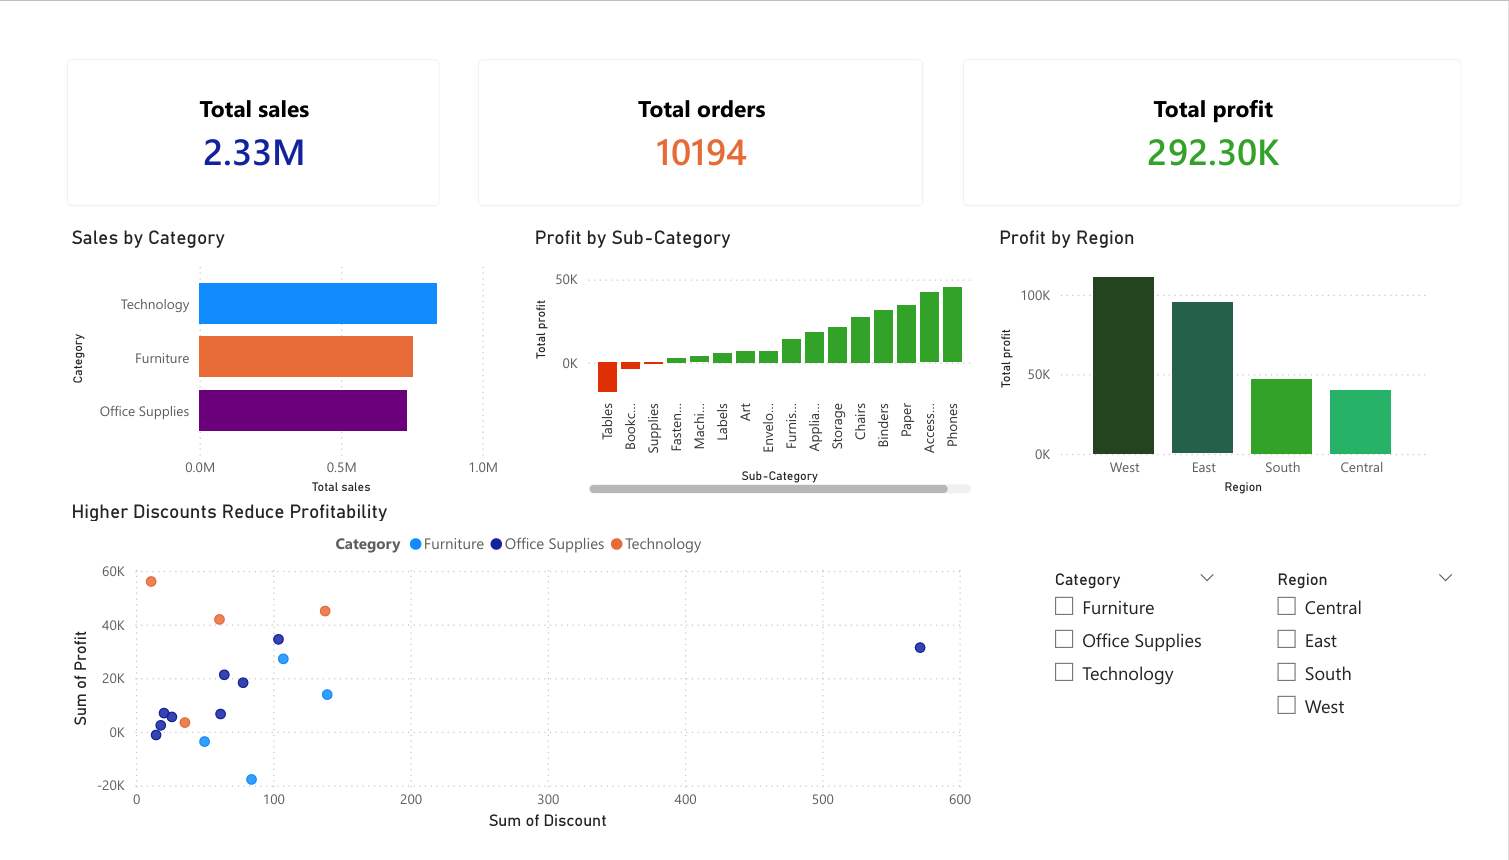

The page's visual inventory and layout, read from the dashboard file:
{"tool":"powerbi","page":{"name":"Page 1","canvas":[1280,720],"ordinal":0},"visuals":[{"type":"cardVisual","fields":{"Data":["Orders.Total sales"]},"box":[17.8,20.6,362.3,163.3],"z":0},{"type":"cardVisual","fields":{"Data":["Orders.Total orders"]},"box":[380.1,20.6,426.8,163.3],"z":1000},{"type":"cardVisual","fields":{"Data":["Orders.Total profit"]},"box":[806.9,20.6,473.4,163.3],"z":2000},{"type":"clusteredBarChart","title":"Sales by Category","fields":{"Category":["Orders.Category"],"Y":["Orders.Total sales"]},"box":[34.3,183.9,385.6,241.5],"z":3000},{"type":"clusteredColumnChart","title":"Profit by Sub-Category","fields":{"Category":["Orders.Sub-Category"],"Y":["Orders.Total profit"]},"box":[441.9,183.9,393.8,241.5],"z":4000},{"type":"clusteredColumnChart","title":"Profit by Region","fields":{"Category":["Orders.Region"],"Y":["Orders.Total profit"]},"box":[850.8,183.9,385.6,241.5],"z":5000},{"type":"scatterChart","title":"Higher Discounts Reduce Profitability","fields":{"Y":["Sum(Orders.Profit)"],"X":["Sum(Orders.Discount)"],"Category":["Orders.Sub-Category"],"Series":["Orders.Category"]},"box":[34.3,425.4,801.4,295],"z":6000},{"type":"slicer","fields":{"Values":["Orders.Category"]},"box":[891.9,481.6,166,159.2],"z":8001},{"type":"slicer","fields":{"Values":["Orders.Region"]},"box":[1088.2,481.6,179.8,149.6],"z":8002}]}

Visuals, with their boxes in screenshot pixels (x1, y1, x2, y2), scaled from the page's 1280x720 canvas onto the 1509x860 screenshot:
cardVisual - Orders.Total sales: pyautogui.locateOnScreen(21, 25, 448, 220)
cardVisual - Orders.Total orders: pyautogui.locateOnScreen(448, 25, 951, 220)
cardVisual - Orders.Total profit: pyautogui.locateOnScreen(951, 25, 1508, 220)
"Sales by Category" clusteredBarChart: pyautogui.locateOnScreen(40, 220, 495, 508)
"Profit by Sub-Category" clusteredColumnChart: pyautogui.locateOnScreen(521, 220, 985, 508)
"Profit by Region" clusteredColumnChart: pyautogui.locateOnScreen(1003, 220, 1458, 508)
"Higher Discounts Reduce Profitability" scatterChart: pyautogui.locateOnScreen(40, 508, 985, 859)
slicer - Orders.Category: pyautogui.locateOnScreen(1051, 575, 1247, 765)
slicer - Orders.Region: pyautogui.locateOnScreen(1283, 575, 1495, 754)
